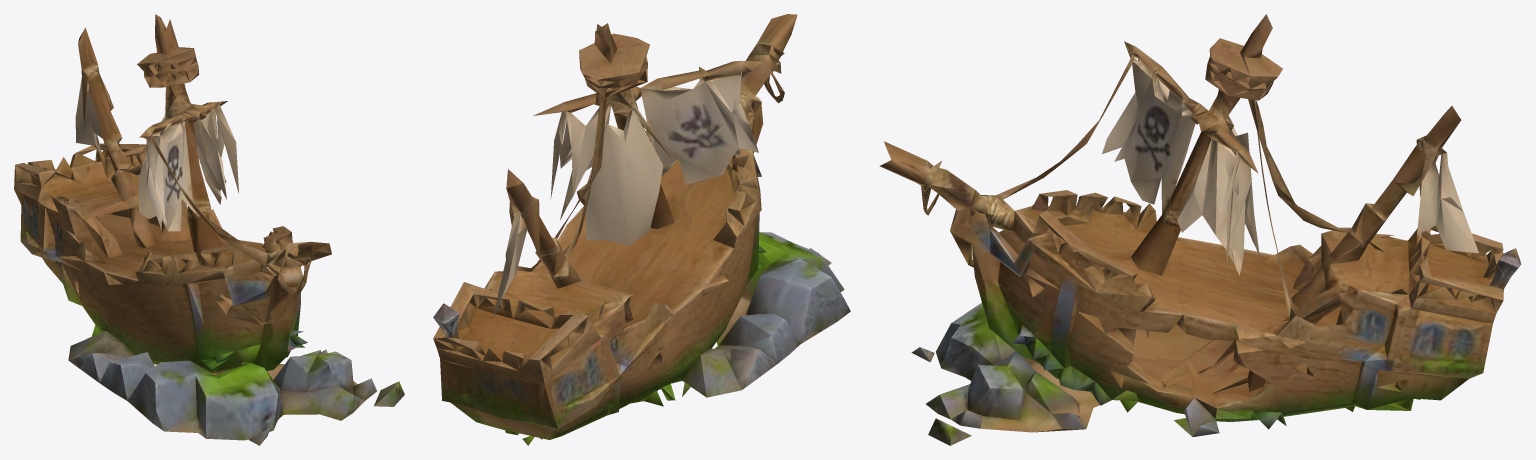
The model's file is shipwreckI.glb.
The picture shows the model from 3 angles, left to right: view 1: azimuth 30°, elevation 25°; view 2: azimuth 150°, elevation 25°; view 3: azimuth 270°, elevation 25°; orthographic projection. The views are drawn at different scales.
Parts seen in each view (by area): view 1: model; view 2: model; view 3: model.
Boxes of the visible parts, box(x1,y1,x2,y2) form: model: box(14, 14, 404, 445); model: box(433, 14, 850, 445); model: box(879, 14, 1521, 445).
Bounding box in the file's own units: 0.8638 × 1.24 × 1.86.
Materials: 1 (1 with a texture image).
